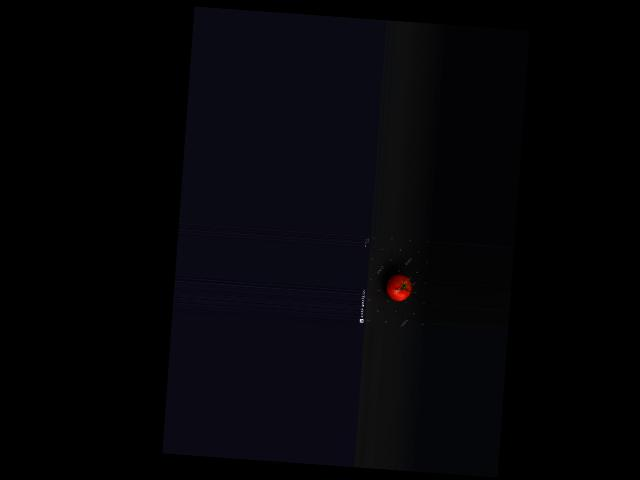tomato: (386, 272, 412, 301)
